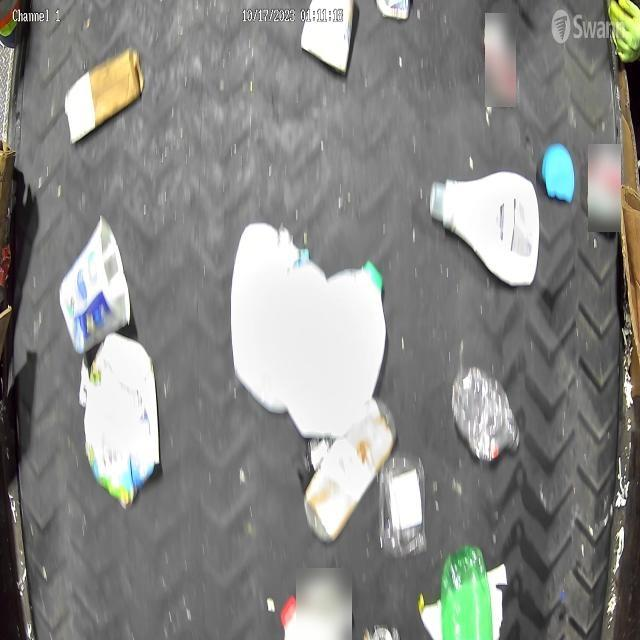milk_jug: (231, 223, 327, 413), (284, 260, 386, 437)
non_white_jug: (84, 333, 161, 509), (431, 170, 543, 290)
plastic_bottle: (451, 366, 522, 462)
